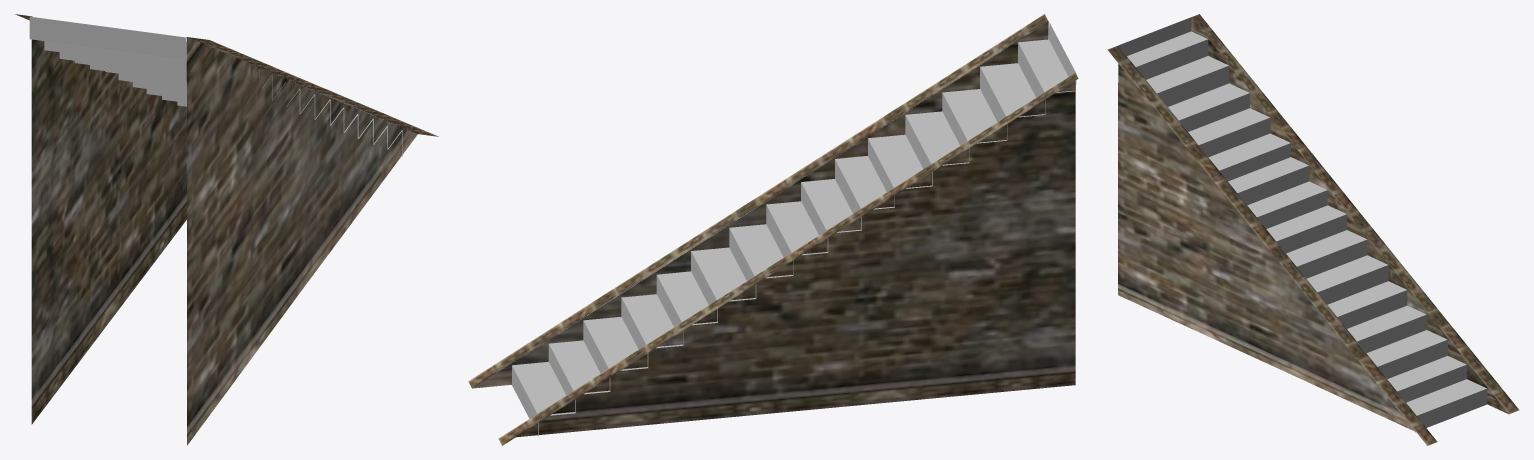
Rendered from tizi04.obj.
3 renders of one model, left to right at view 1: azimuth 30°, elevation 25°; view 2: azimuth 150°, elevation 25°; view 3: azimuth 270°, elevation 25°, orthographic. The views are drawn at different scales.
Visible parts, largest first — view 1: tizi04; view 2: tizi04; view 3: tizi04.
Boxes of the visible parts, left/top/right/bottom form: tizi04: left=15, top=14, right=438, bottom=445; tizi04: left=468, top=14, right=1078, bottom=445; tizi04: left=1107, top=14, right=1519, bottom=445.
Size of the model in its own units: 157 by 100 by 150.
